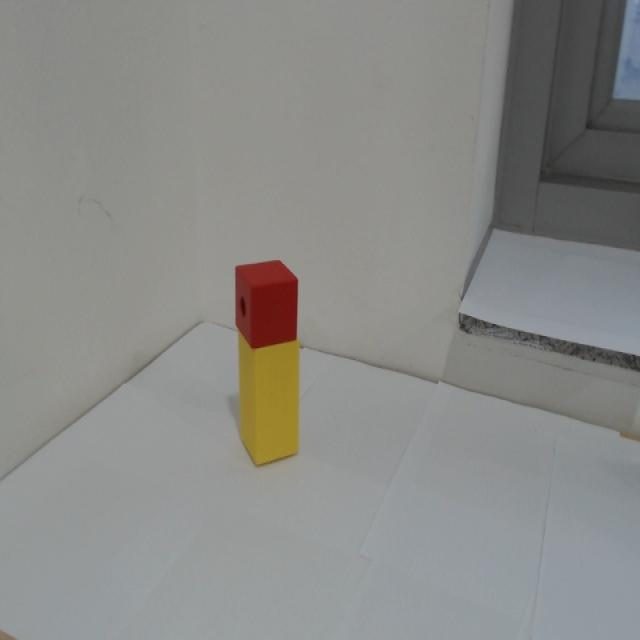cube: (228, 248, 304, 346)
